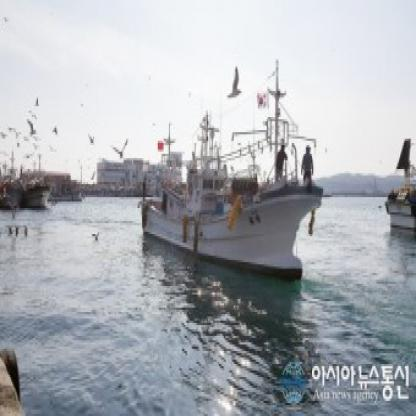Ship: (140, 118, 334, 300)
